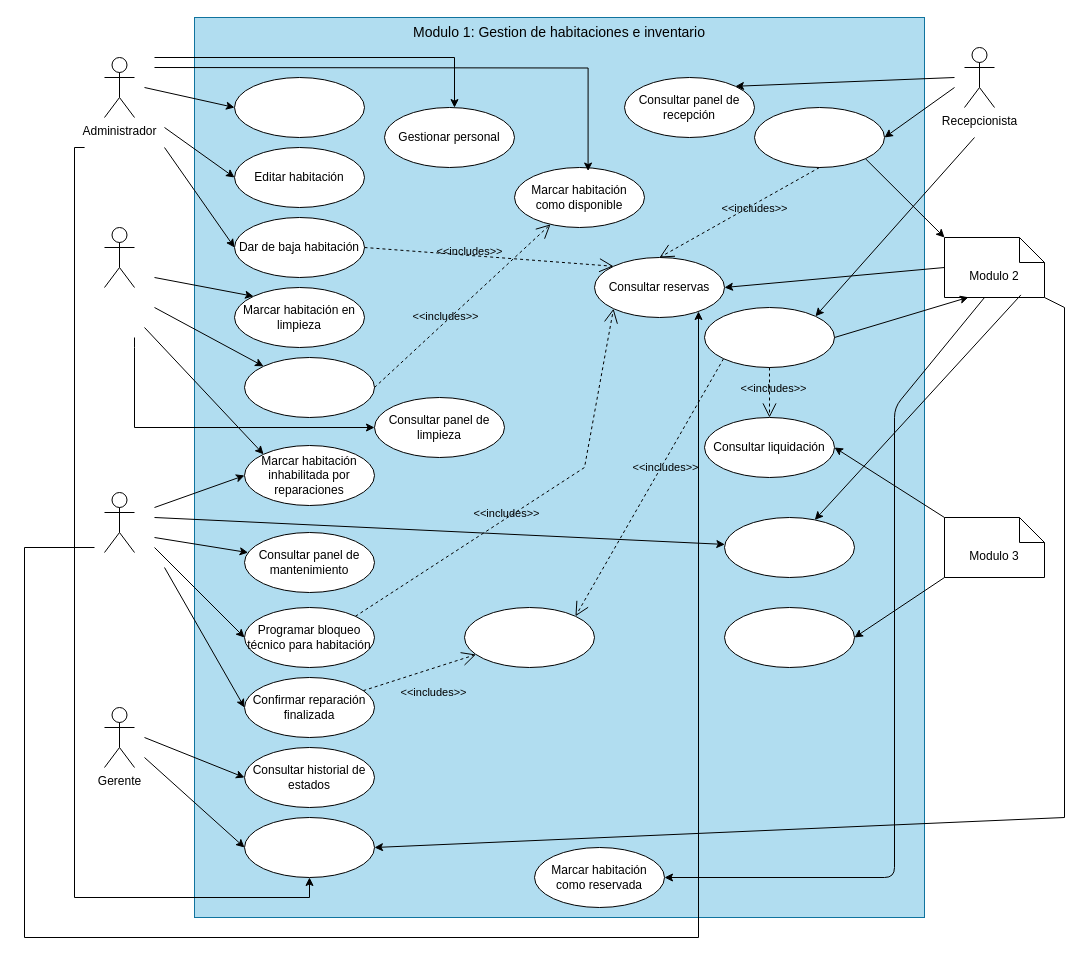
Some shapes in this 1090 by 963 pixel diagram are drawn without their labels. The centre of each missing label's shape, as x and y in pixels:
"Confirmar fin de limpieza de habitación" goes at [309,387].
"Consultar información de mantenimientos" goes at [789,547].
"Consultar inventario de habitaciones" goes at [309,847].
"Consultar tarifa base" goes at [789,637].
"Marcar pendiente a limpieza" goes at [529,637].
"Personal de limpieza" goes at [119,257].
"Personal de mantenimiento" goes at [119,522].
"Registrar check-in" goes at [819,137].
"Registrar check-out" goes at [769,337].
"Registrar habitación" goes at [299,107].
